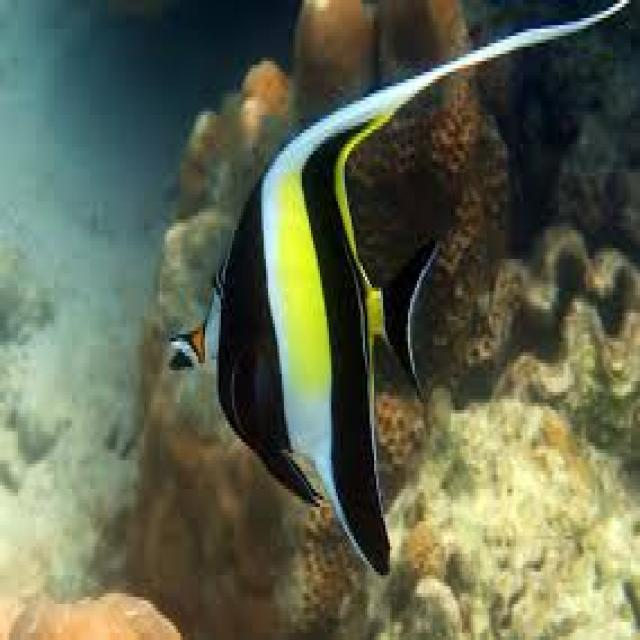MorishIdol: (162, 0, 629, 579)
